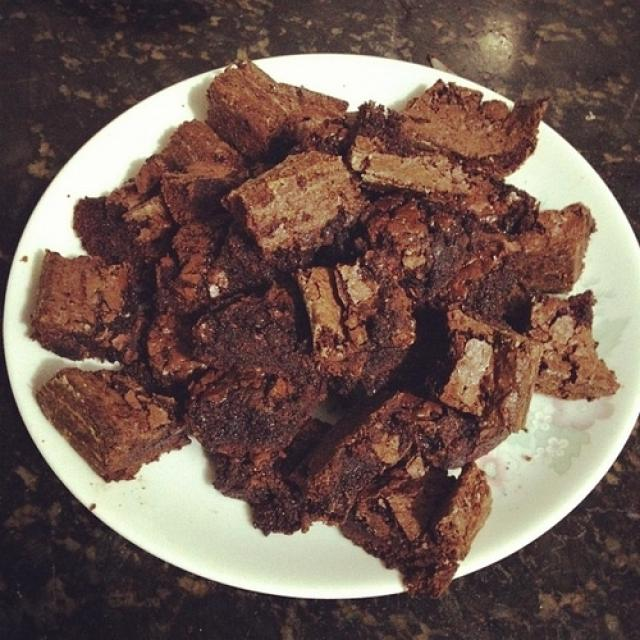蛋糕甜品: (59, 64, 569, 564)
